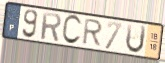7: (106, 20, 124, 51)
9: (22, 8, 39, 40)
C: (60, 14, 83, 46)
R: (81, 18, 105, 49), (40, 11, 63, 43)
U: (124, 23, 148, 55)
